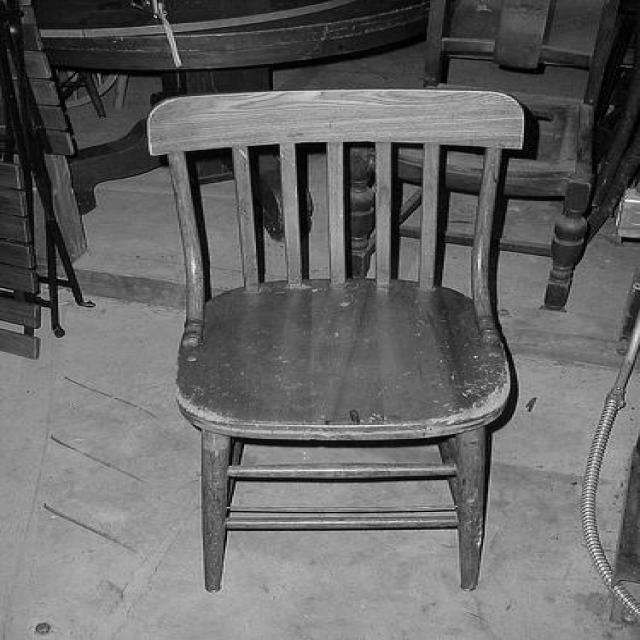chair: (147, 90, 540, 592)
